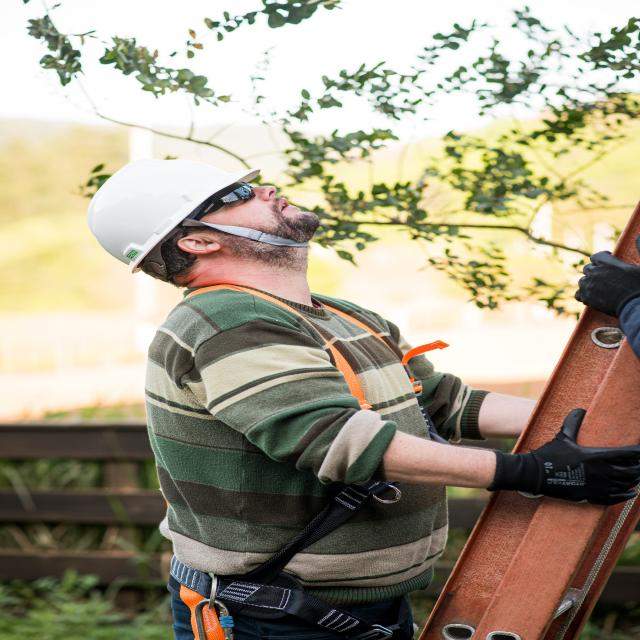capacete: (84, 154, 265, 277)
corda de vida: (172, 283, 460, 640)
luva: (483, 407, 640, 521)
